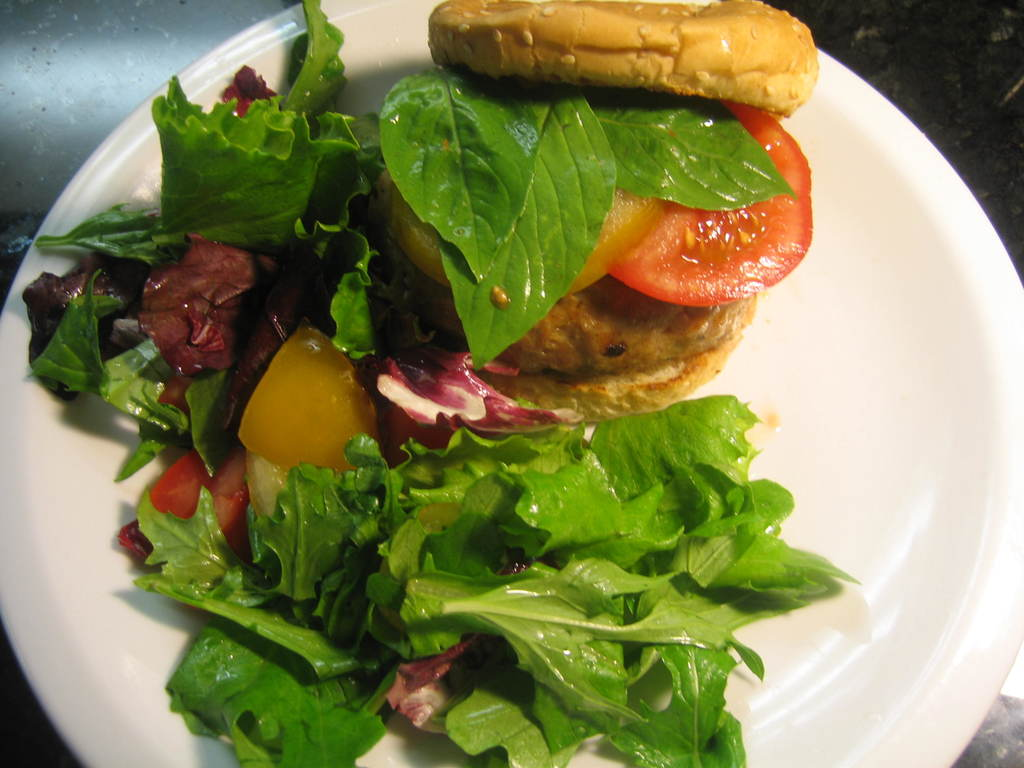sandwich: (385, 0, 816, 441)
